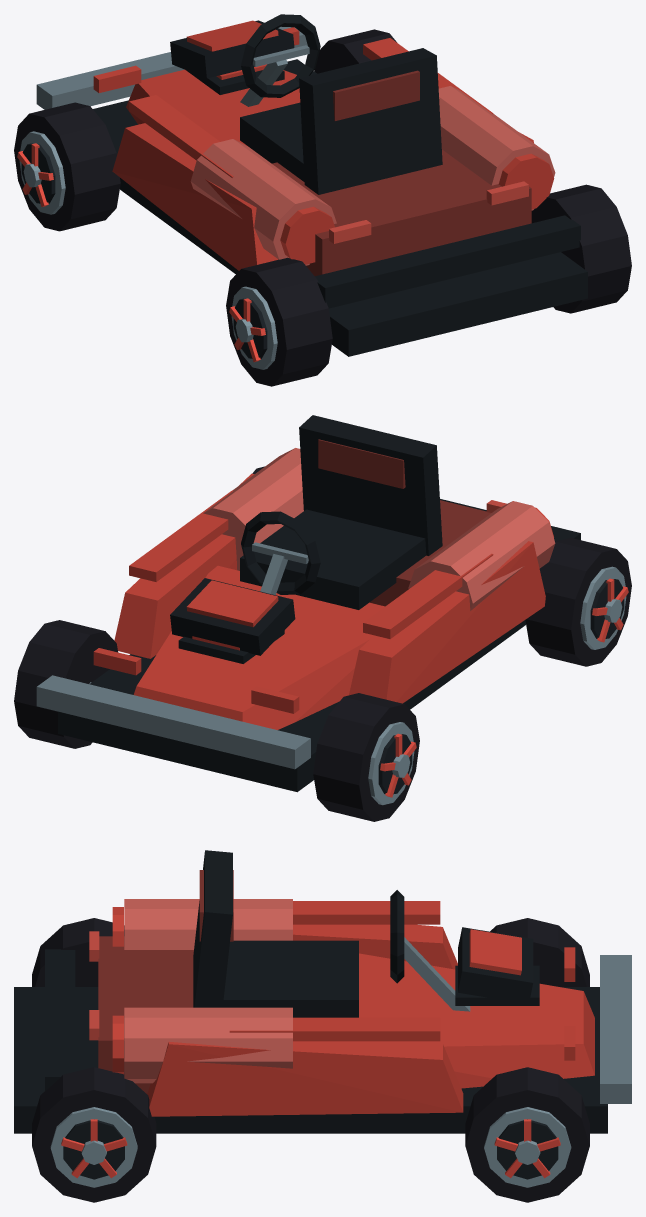
The model's file is kart.glb.
3 views of the same model, one above another, from view 1: azimuth 30°, elevation 25°; view 2: azimuth 150°, elevation 25°; view 3: azimuth 270°, elevation 25° (orthographic). The views are drawn at different scales.
Visible parts, largest first — view 1: chassis, wheel-rear-left, wheel-front-left, wheel-rear-right, wheel-front-right; view 2: chassis, wheel-front-left, wheel-rear-left, wheel-front-right; view 3: chassis, wheel-front-right, wheel-rear-right, wheel-front-left, wheel-rear-left.
Boxes of the visible parts, <box> form: chassis: <box>36,14,587,356</box>; wheel-rear-left: <box>226,257,332,386</box>; wheel-front-left: <box>14,102,120,231</box>; wheel-rear-right: <box>531,184,631,313</box>; wheel-front-right: <box>314,29,396,73</box>; chassis: <box>36,415,580,792</box>; wheel-front-left: <box>313,693,419,821</box>; wheel-rear-left: <box>525,538,631,666</box>; wheel-front-right: <box>14,620,118,748</box>; chassis: <box>14,850,631,1133</box>; wheel-front-right: <box>465,1067,589,1202</box>; wheel-rear-right: <box>32,1067,156,1202</box>; wheel-front-left: <box>490,918,589,986</box>; wheel-rear-left: <box>32,918,124,986</box>.
Bounding box in the file's own units: 2.2 × 1.3 × 3.08.
